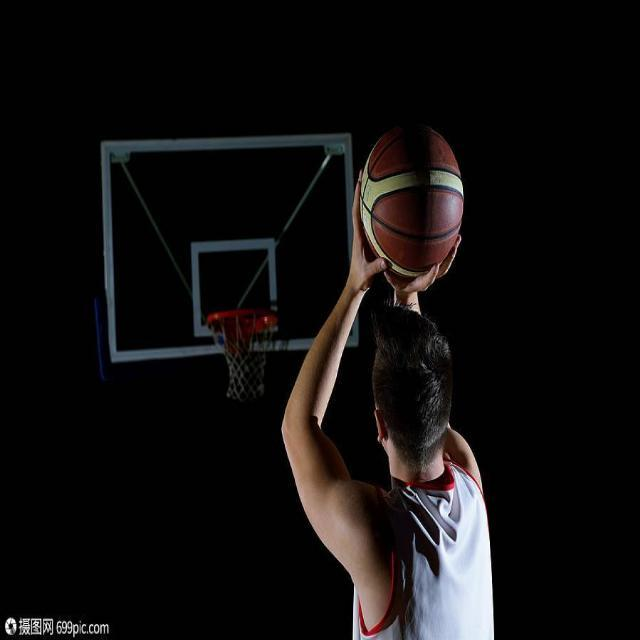rim: (359, 122, 462, 282)
